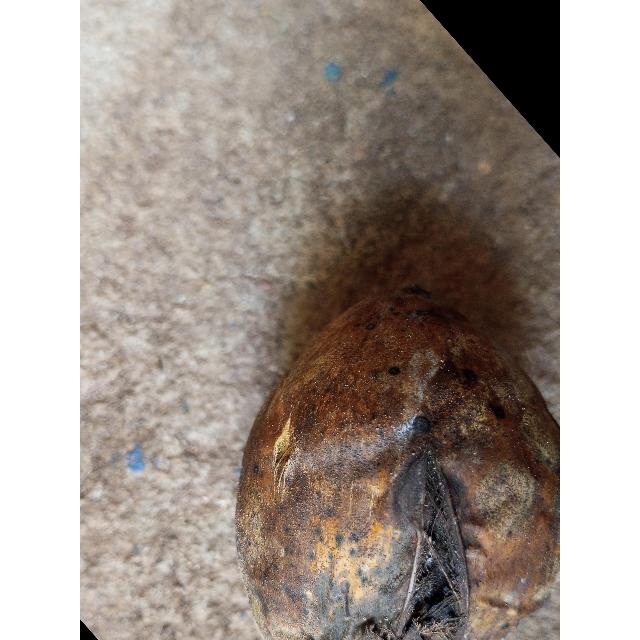damaged: (236, 294, 560, 640)
